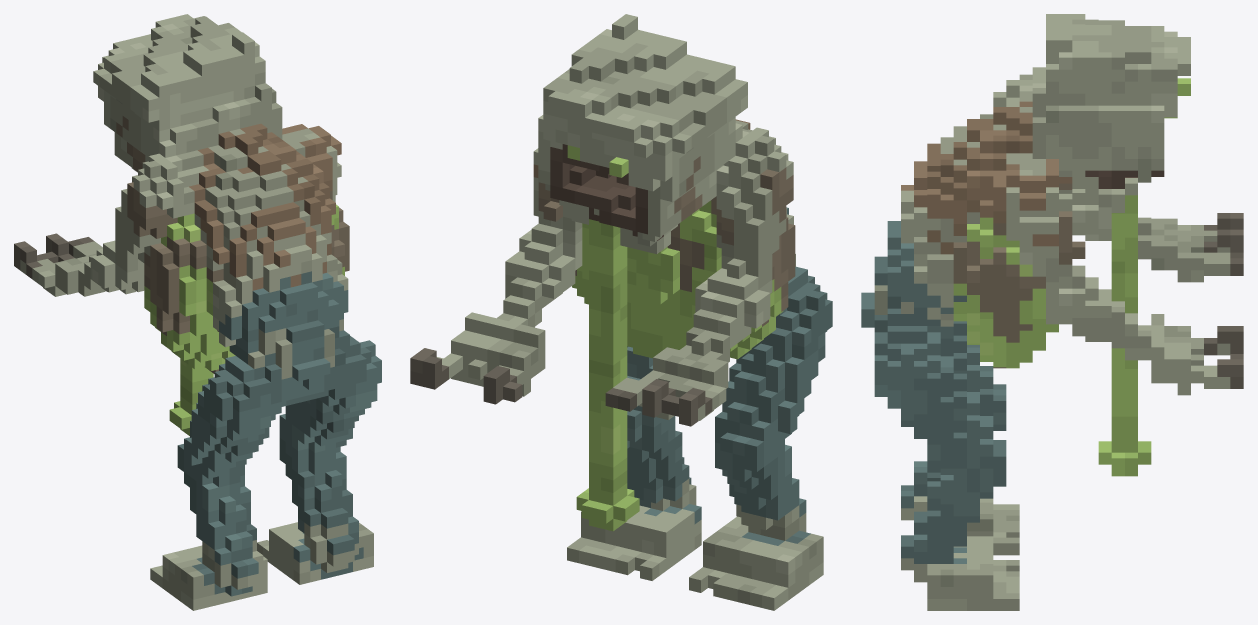
Rendered from acid_zombie.6.glb.
The picture shows the model from 3 angles, left to right: view 1: azimuth 30°, elevation 25°; view 2: azimuth 150°, elevation 25°; view 3: azimuth 270°, elevation 25°; orthographic projection. The views are drawn at different scales.
Visible parts, largest first — view 1: acid_zombie.6; view 2: acid_zombie.6; view 3: acid_zombie.6.
Boxes of the visible parts, left/top/right/bottom form: acid_zombie.6: left=14, top=14, right=381, bottom=610; acid_zombie.6: left=410, top=14, right=832, bottom=610; acid_zombie.6: left=861, top=14, right=1243, bottom=610.
Size of the model in its own units: 0.9583 by 1.88 by 1.21.
